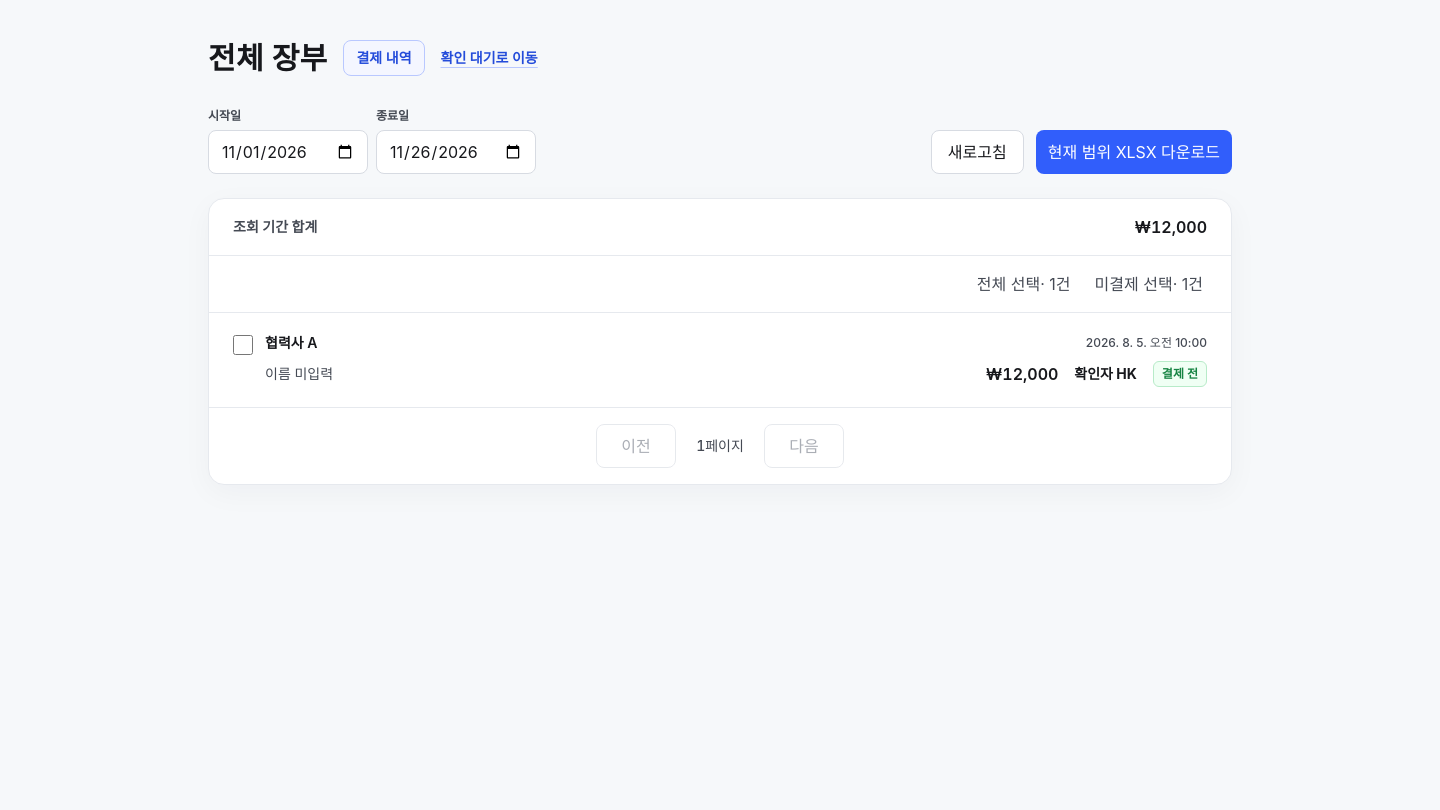
Test: MonthlyMealUsageList › keeps settlement success and receipt upload when the ledger reload fails
This screenshot has width=1440, height=810.
Click the checkbox.
click(243, 345)  # box [233,335,253,355]
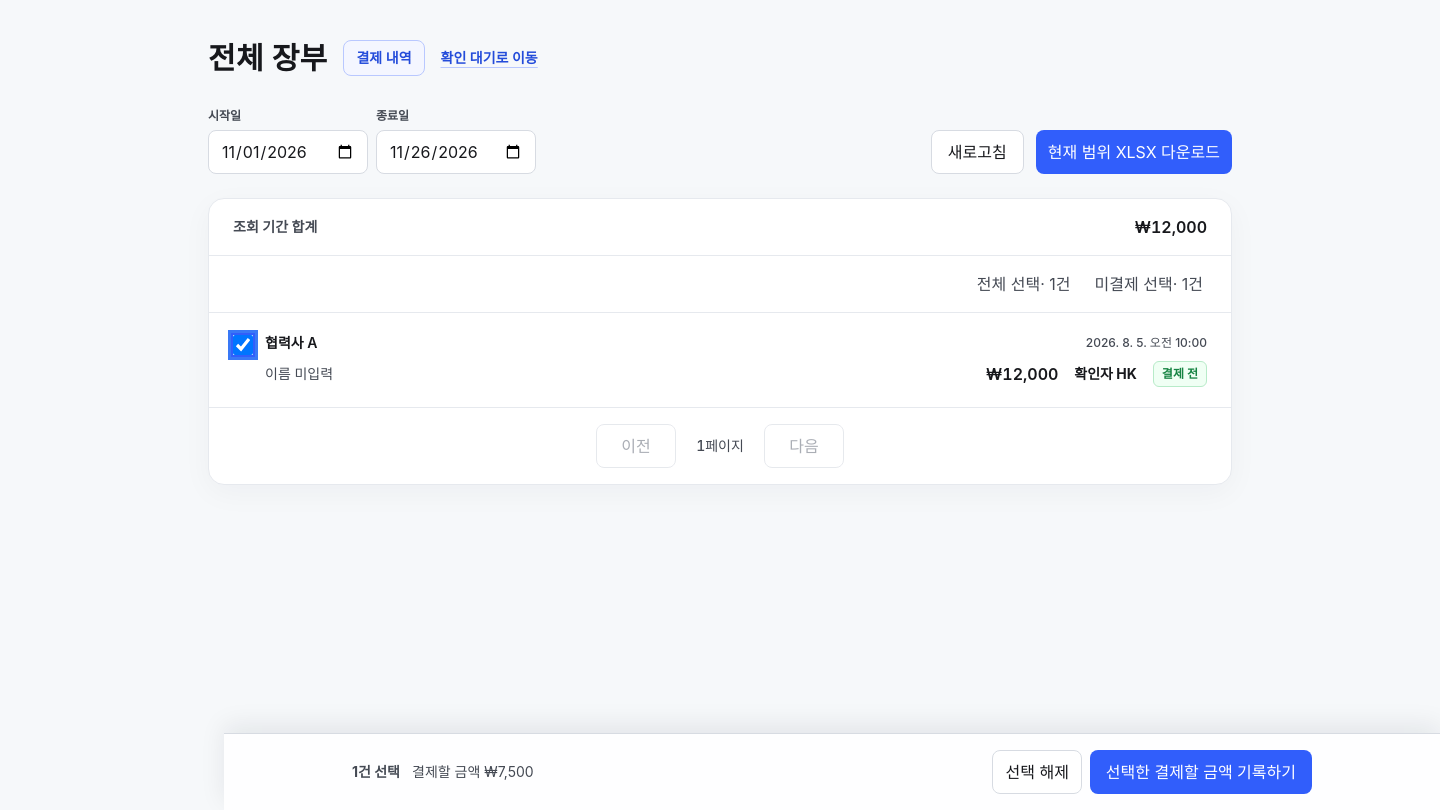
expect the button "선택한 결제할 금액 기록하기" is enabled: met
Click the button "선택한 결제할 금액 기록하기".
click(1201, 772)  # box [1090,750,1312,794]
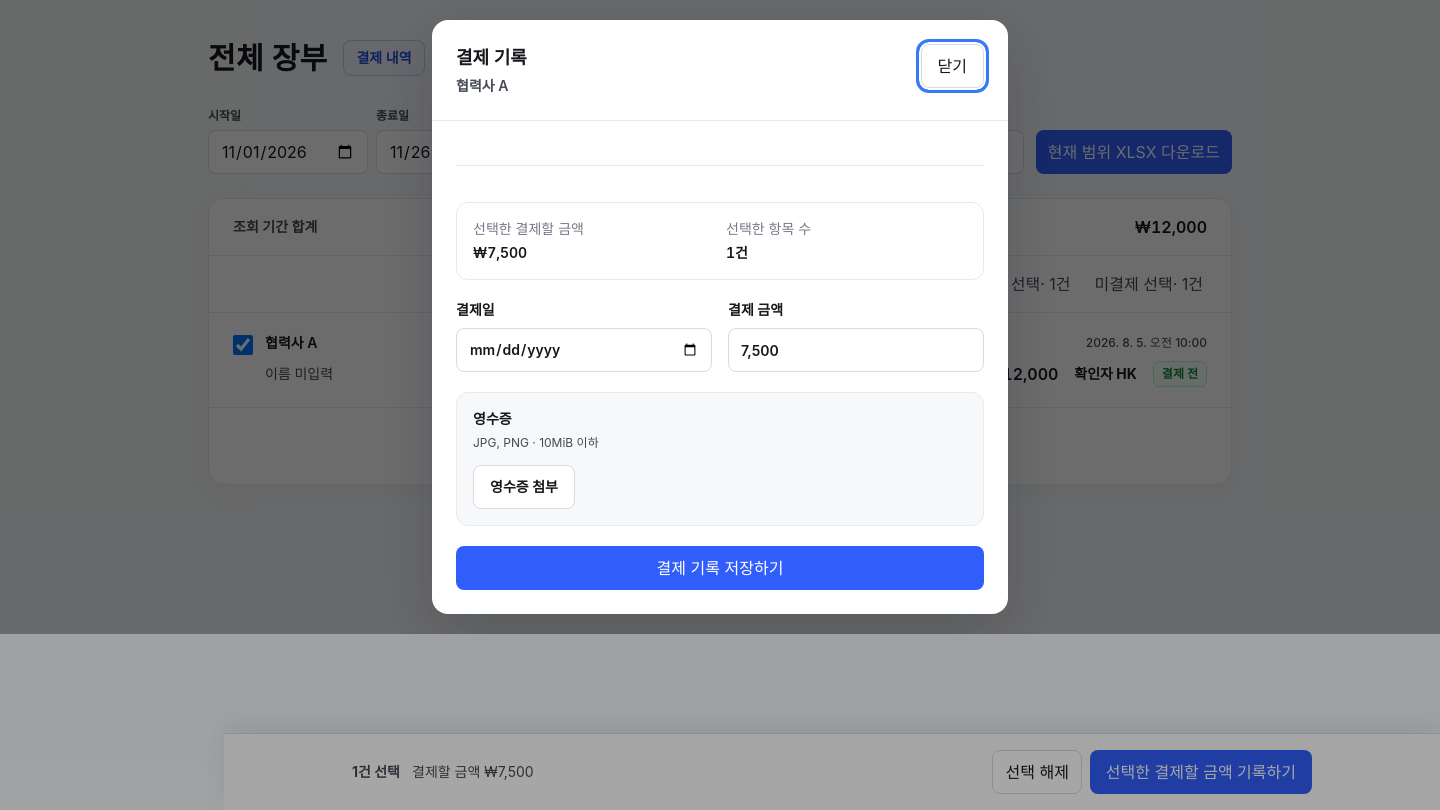
Type "2026-08-11" into the date field labelled "결제일".
click(584, 350); type("2026-08-11")  # box [456,328,712,372]
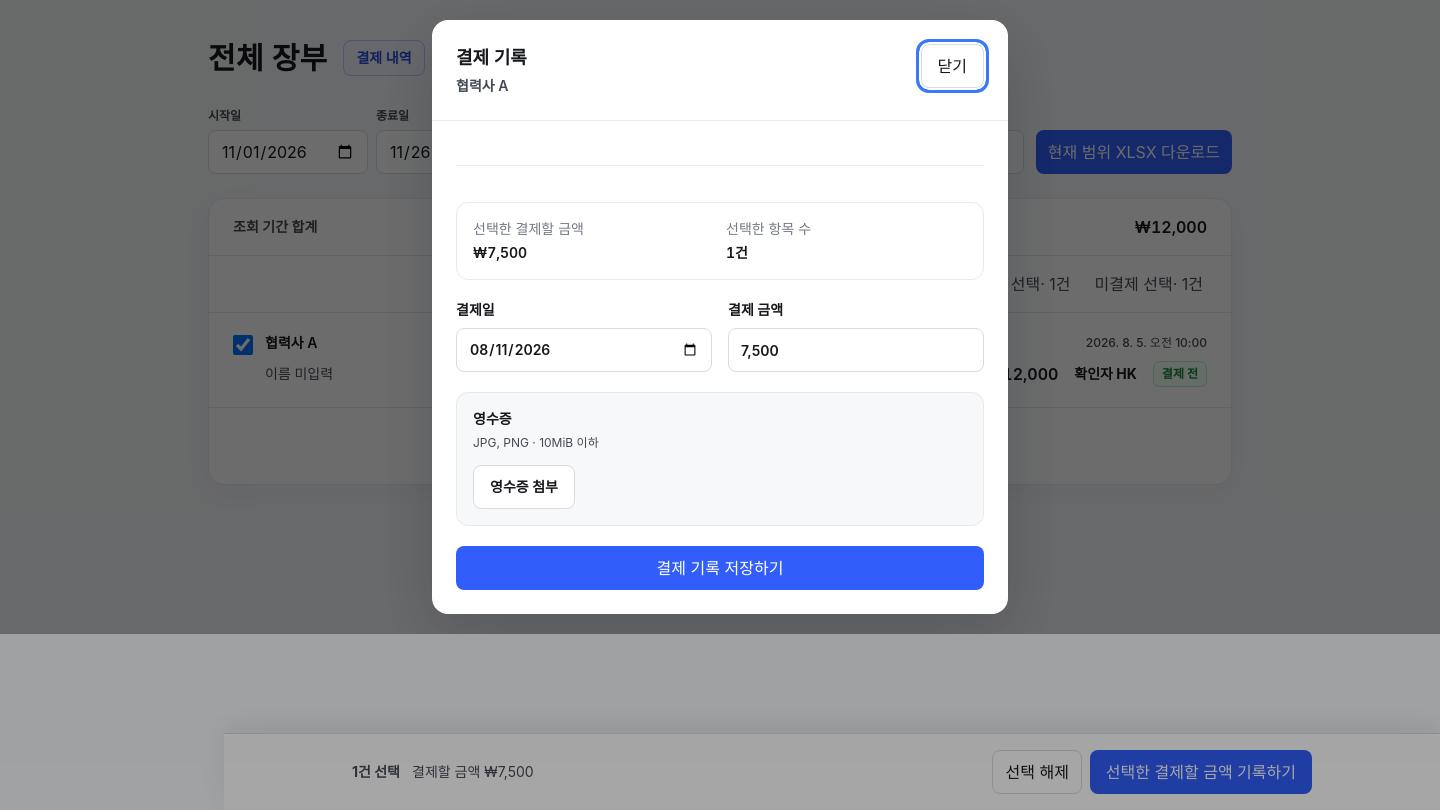
Click the button "결제 기록 저장하기".
click(720, 568)  # box [456,546,984,590]
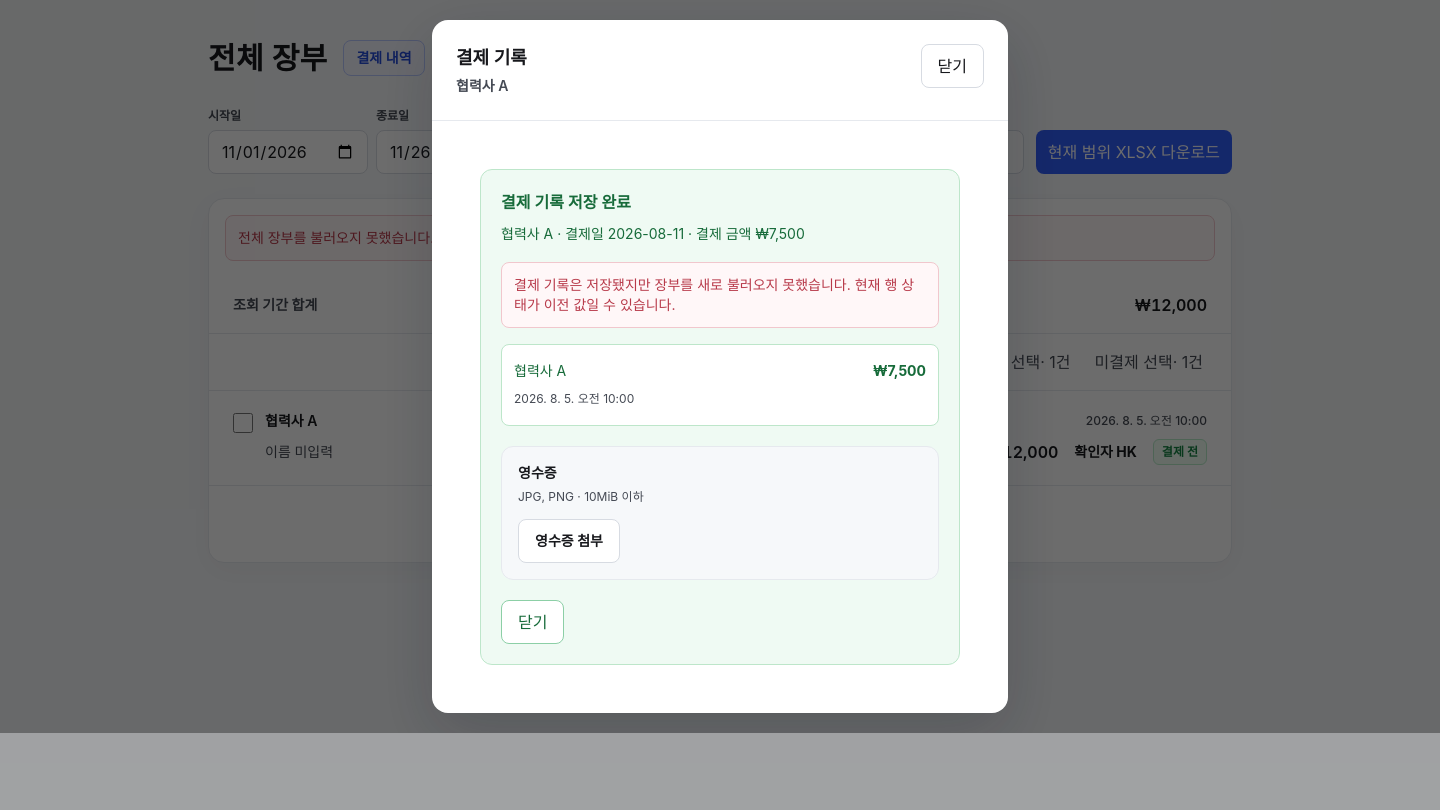
expect the text "1건 선택" is gone: met
expect the heading "결제 기록 저장 완료" is shown: met, box [501,192,631,212]
expect the message reads "결제 기록은 저장됐지만 장부를 새로 불러오지 못했습니다. 현재 행 상태가 이전 값일 수 있습니다.": met, box [514,276,914,313]
